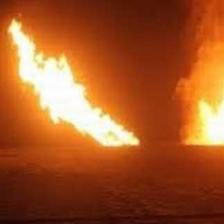fire: (8, 20, 141, 146), (172, 36, 222, 152)
